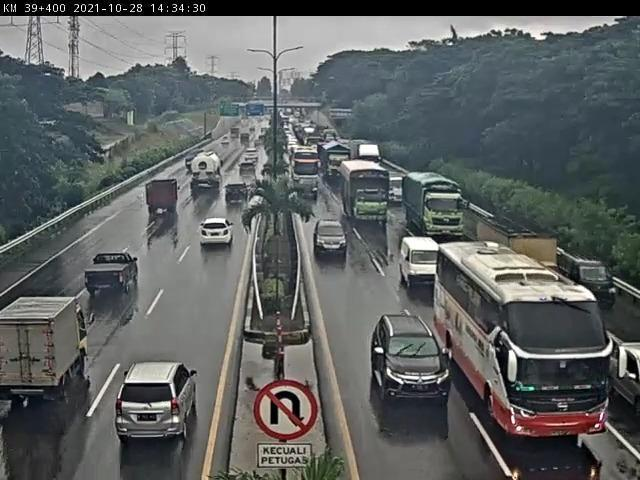bus: (437, 243, 613, 440)
car: (370, 310, 453, 402), (113, 363, 199, 444), (561, 248, 618, 303), (85, 251, 141, 295), (401, 237, 442, 289), (315, 220, 348, 259), (200, 217, 238, 249), (225, 180, 249, 202), (298, 177, 321, 199)
truck: (1, 295, 91, 401), (476, 214, 559, 269), (402, 172, 466, 239), (341, 161, 393, 226), (147, 178, 184, 216), (190, 151, 224, 191)
